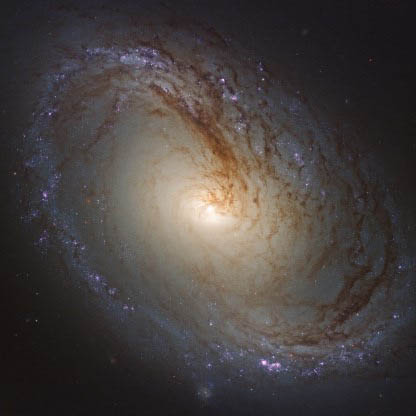Messier 96: (13, 12, 414, 415)
